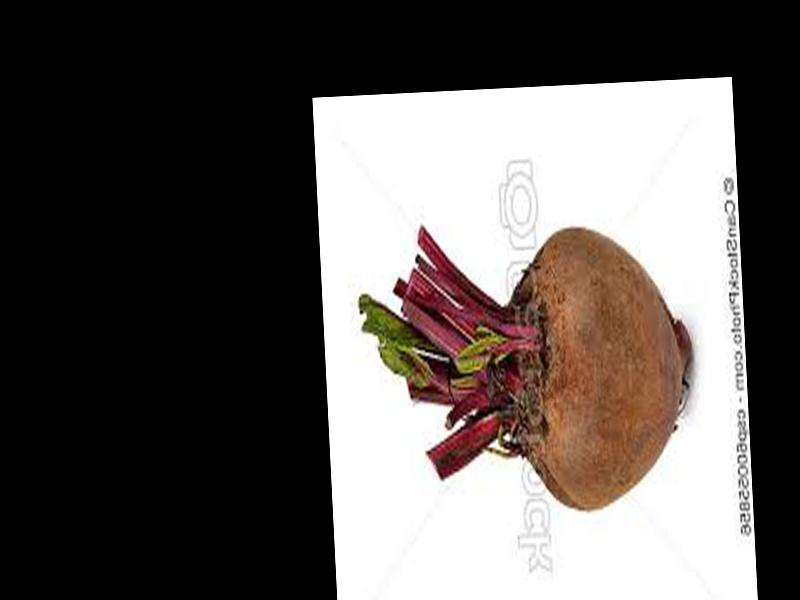Beet: (356, 214, 698, 524)
